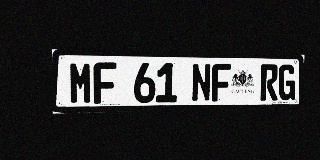1: (156, 63, 177, 103)
6: (134, 63, 155, 103)
F: (93, 62, 116, 104), (211, 64, 231, 102)
G: (278, 64, 296, 100)
M: (69, 62, 93, 104)
N: (191, 63, 211, 102)
R: (260, 64, 278, 101)
